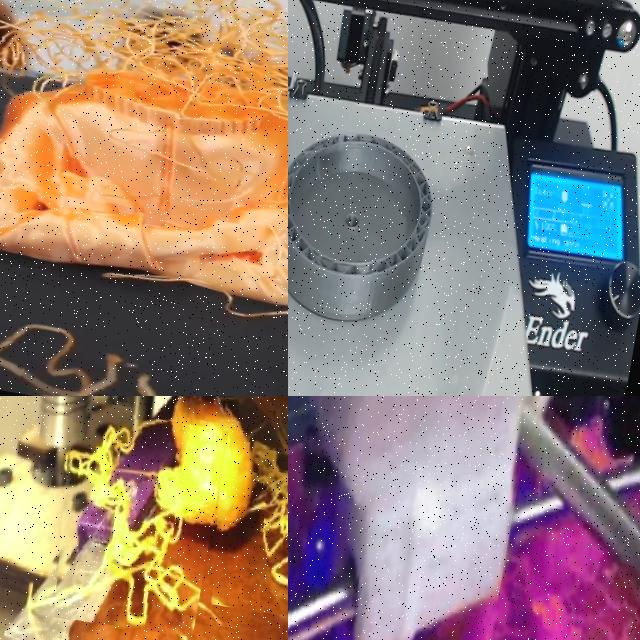spaghetti: (0, 0, 288, 273), (66, 420, 222, 634), (0, 289, 212, 396), (224, 396, 288, 592)
